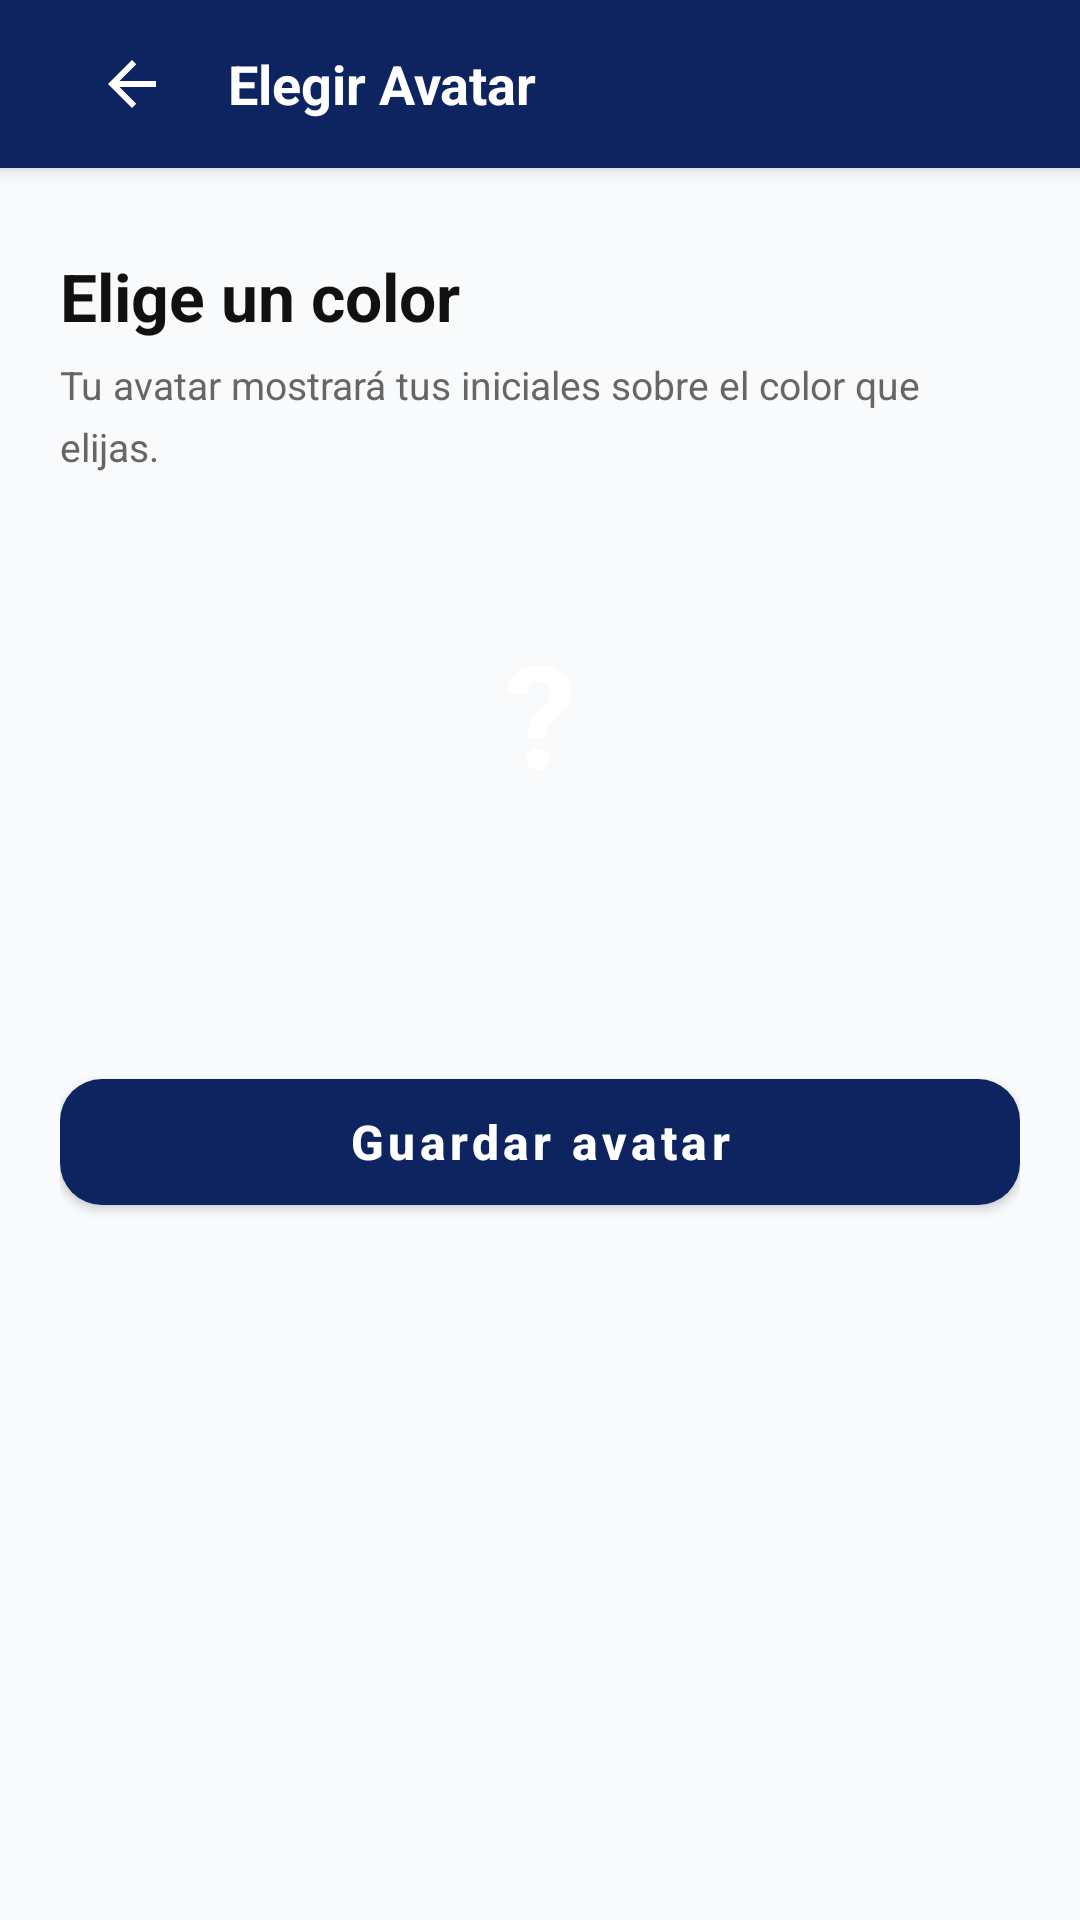

Where icons sit on this 1080*1920 app screen, as bbox=(x1, y1, x2, y2):
Volver: bbox=(108, 60, 156, 108)
